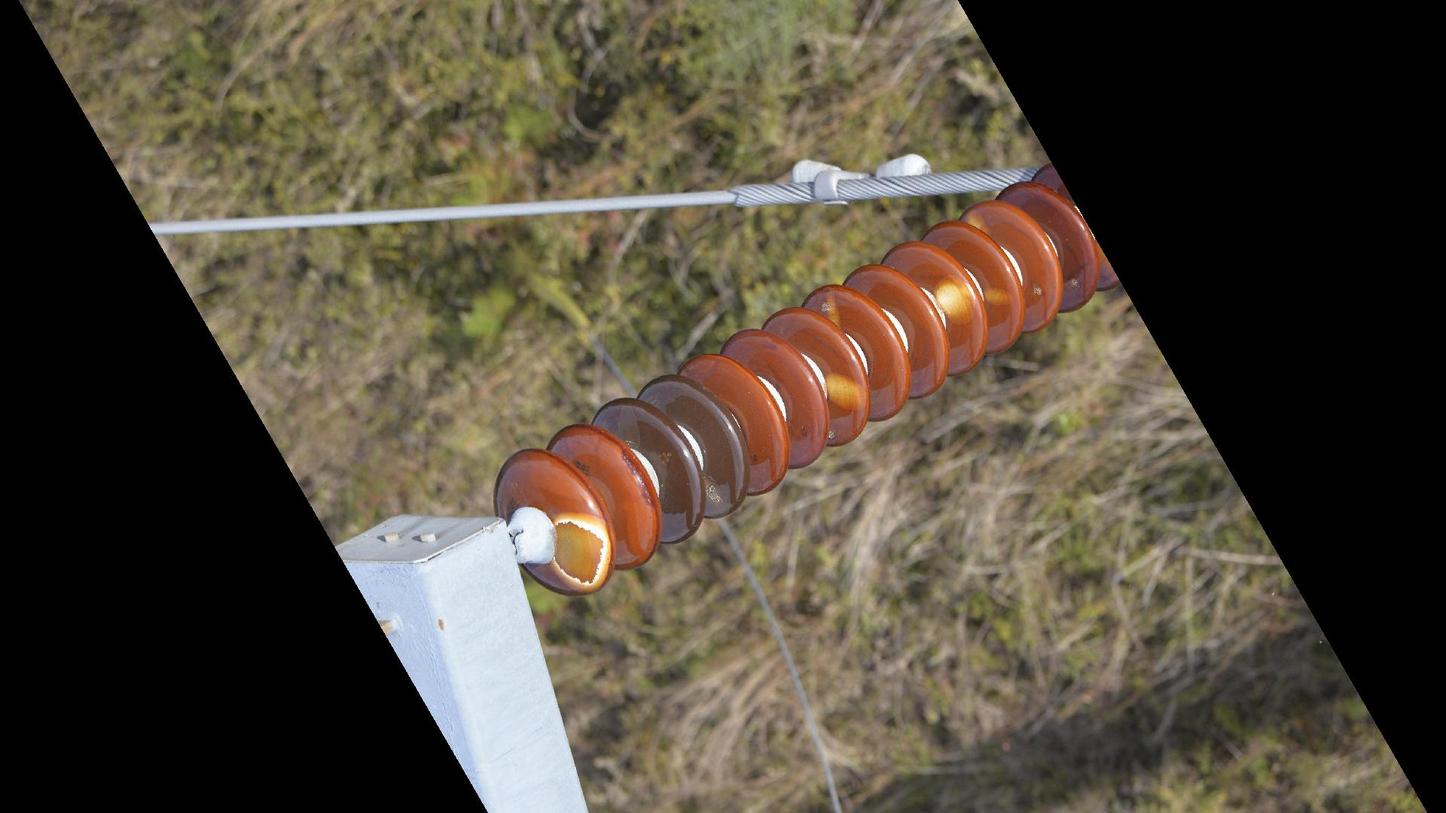insulator: (489, 158, 1124, 601)
insulator_flashover: (551, 512, 609, 589), (931, 271, 978, 328), (822, 370, 870, 416), (978, 282, 1017, 309), (822, 285, 845, 330)
